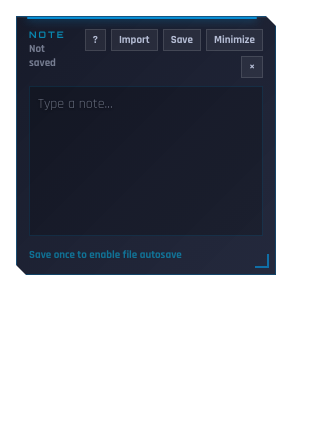
Scenario: NoteOverlay › shows help instructions from the question mark button
Click the button titled "How notes work" at (95, 40), box [85,29,106,51]
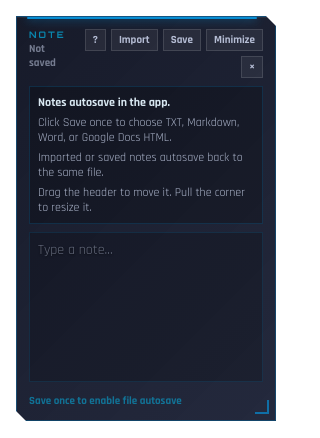
Check: the text "Notes autosave in the app." is shown, box [38,95,170,110]
Check: the text "Imported or saved notes autosave back to the same file." is shown, box [38,150,254,180]
